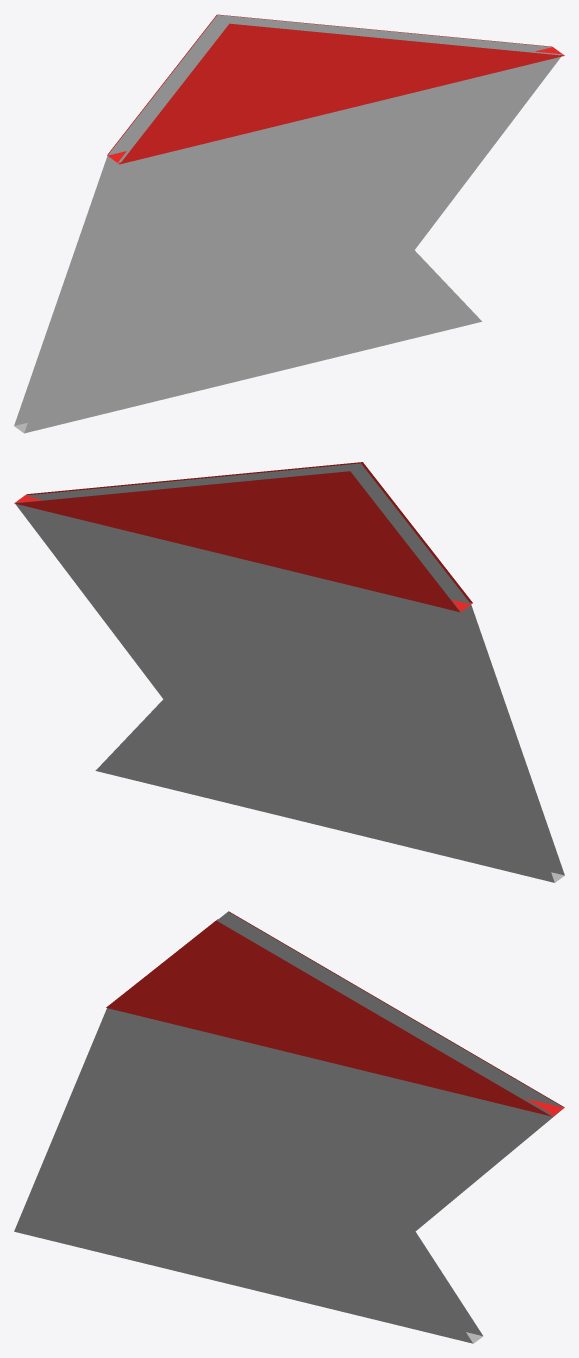
Rendered from MidleBottomPh.fbx.
The picture shows the model from 3 angles, top to bottom: view 1: azimuth 30°, elevation 25°; view 2: azimuth 150°, elevation 25°; view 3: azimuth 330°, elevation 25°; orthographic projection.
Parts seen in each view (by area): view 1: Plane.062; view 2: Plane.062; view 3: Plane.062.
Boxes of the visible parts, x1,y1,x2,y2 form: Plane.062: (14, 14, 564, 433); Plane.062: (14, 462, 564, 882); Plane.062: (14, 911, 564, 1343).
Size of the model in its own units: 2.2 by 1.41 by 0.0889.
